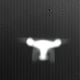plane: (19, 35, 68, 64)
